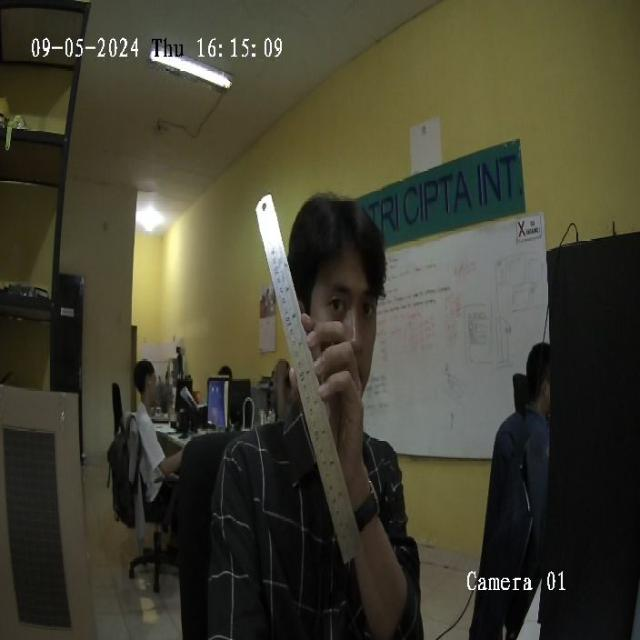Ruler: (256, 196, 359, 559)
